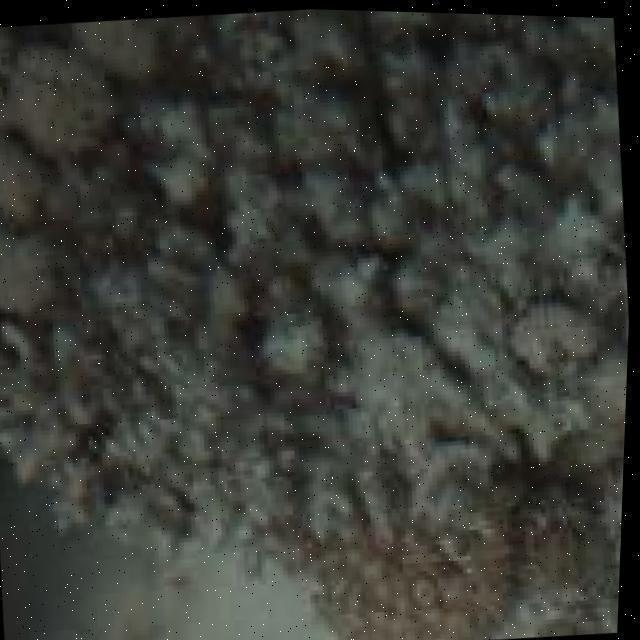Dead Coral: (124, 0, 612, 525)
